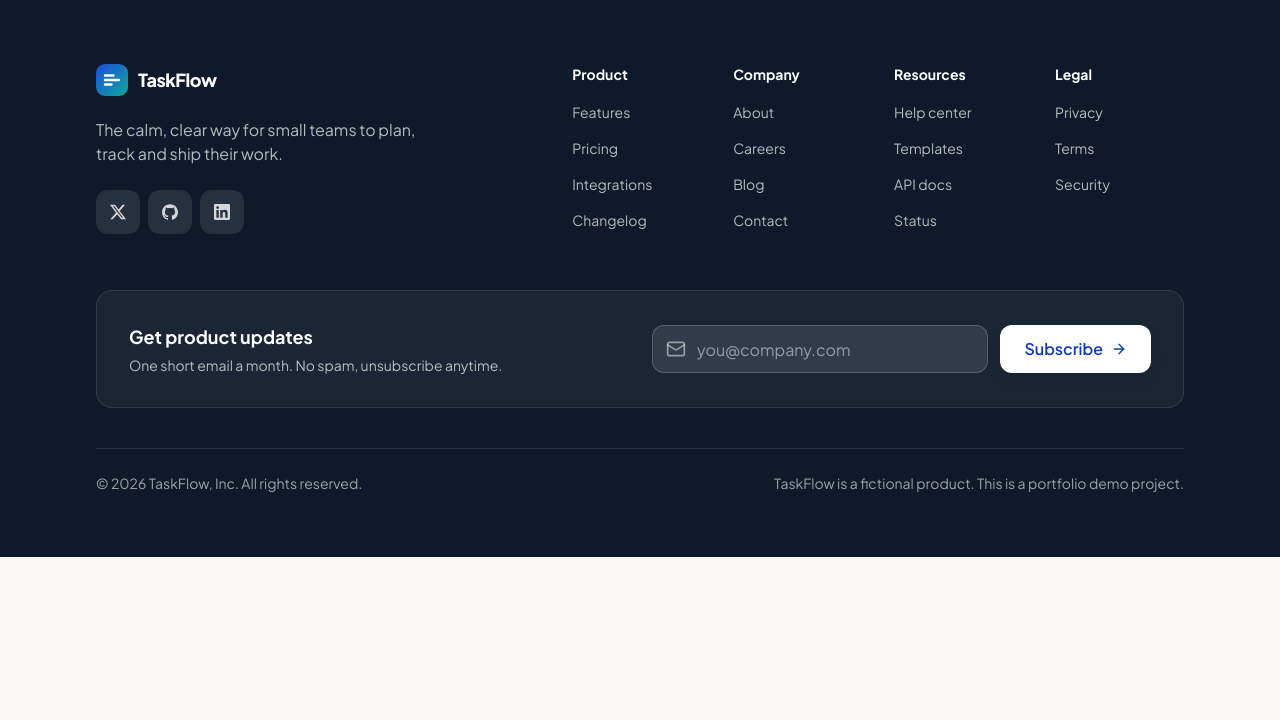
it: Footer › has a newsletter form with validation
This screenshot has width=1280, height=720.
Click the button "Subscribe": (1076, 349) 1000,325 -> 1151,373
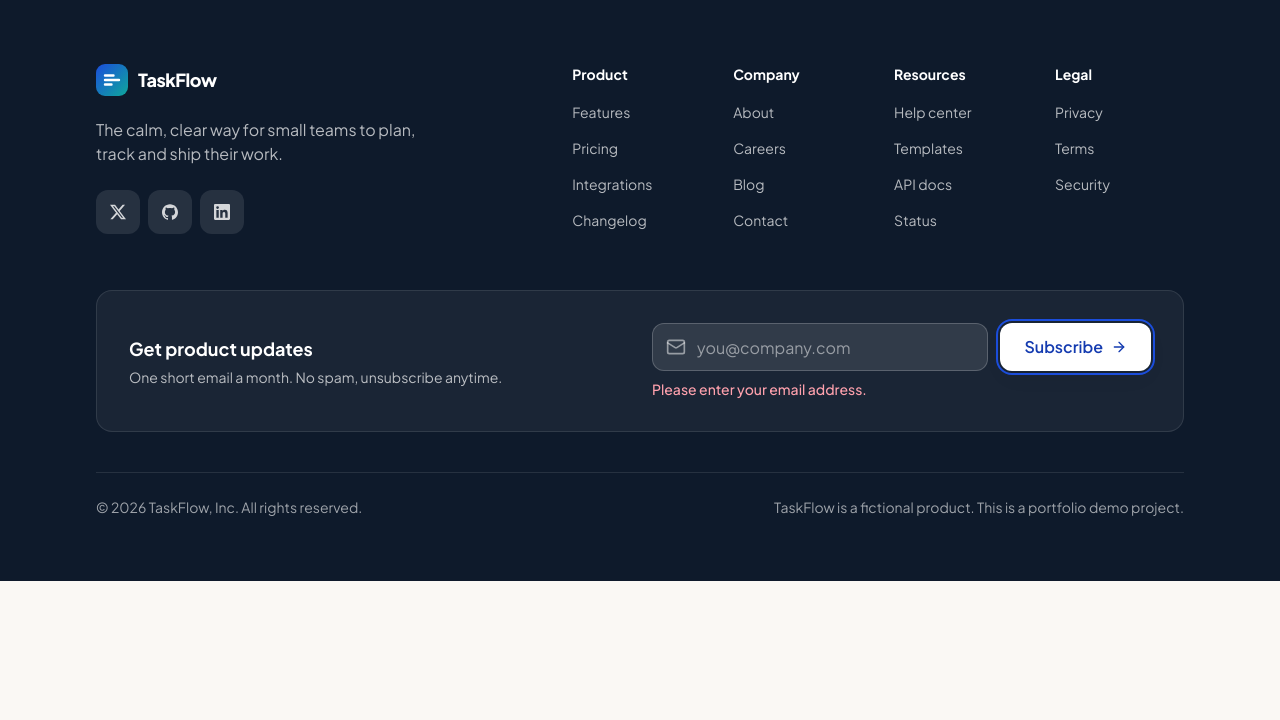
expect the message reads "Please enter your email address.": met, box 652,380 -> 867,398
